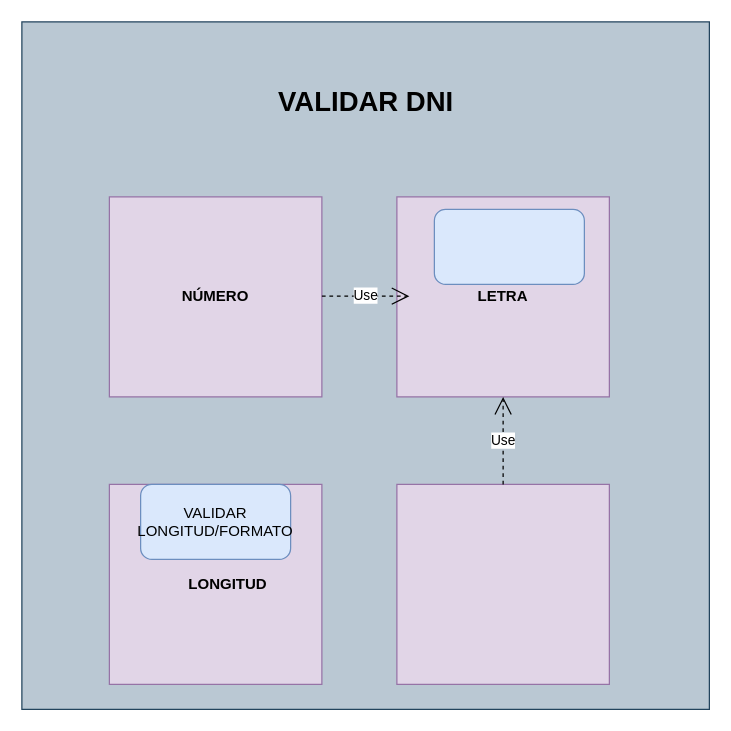
Image size: 731x731. Some labels were removed from this diagram. Each missing label, with the centre of its shape:
TABLA DE ASIGNACIÓN: the point at 502,583
VALIDAR LETRA: the point at 508,246
